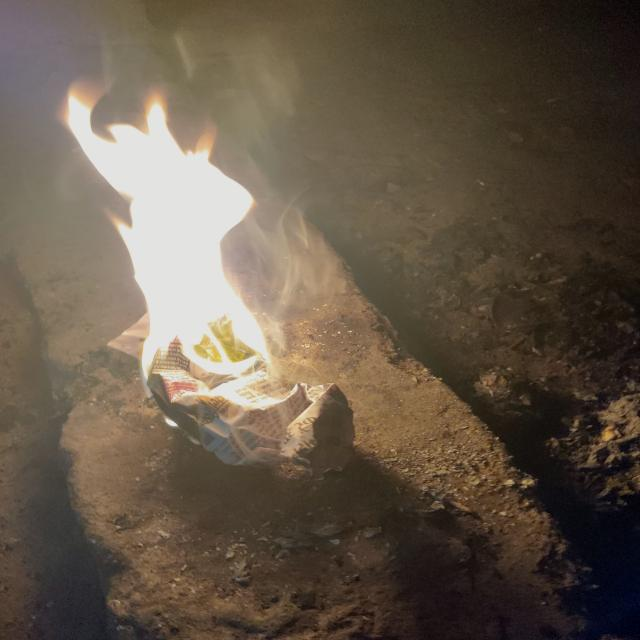firerotation: (56, 73, 272, 400)
